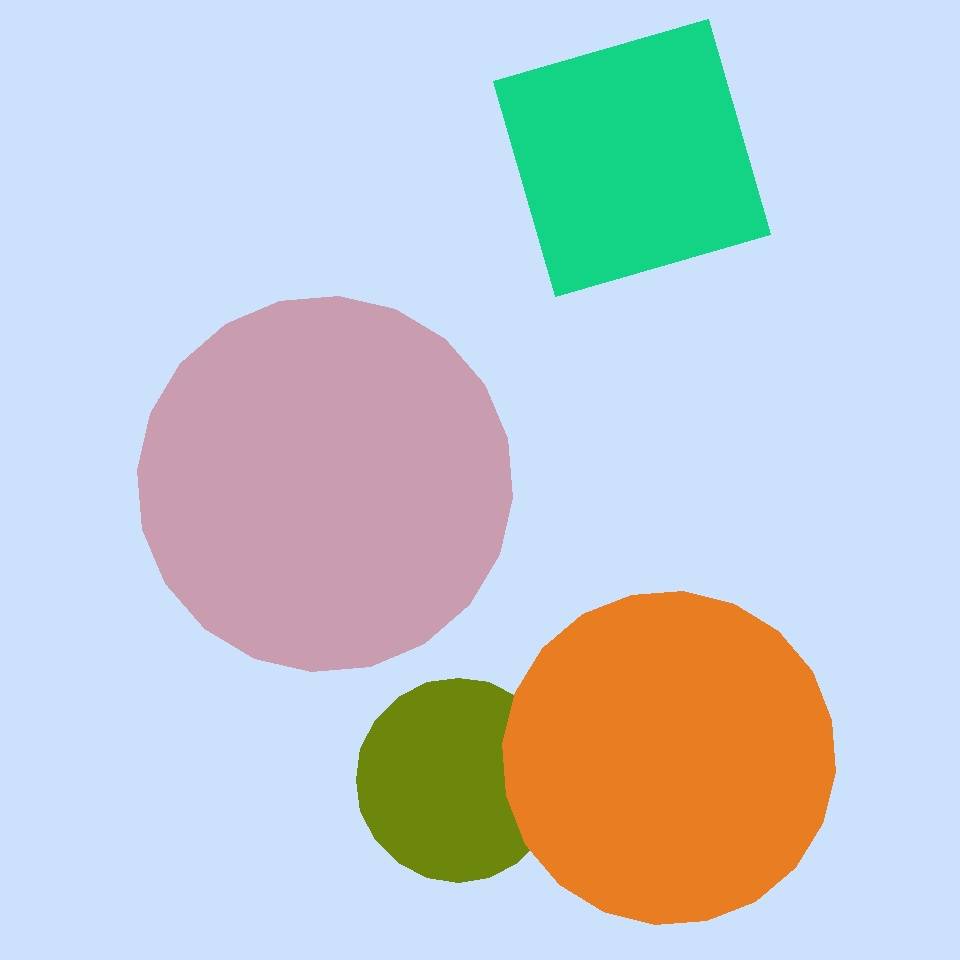square: (314, 638, 612, 936), (494, 20, 770, 296)
triangle: (138, 296, 513, 672), (502, 592, 836, 924), (356, 678, 560, 882), (80, 241, 201, 362)
